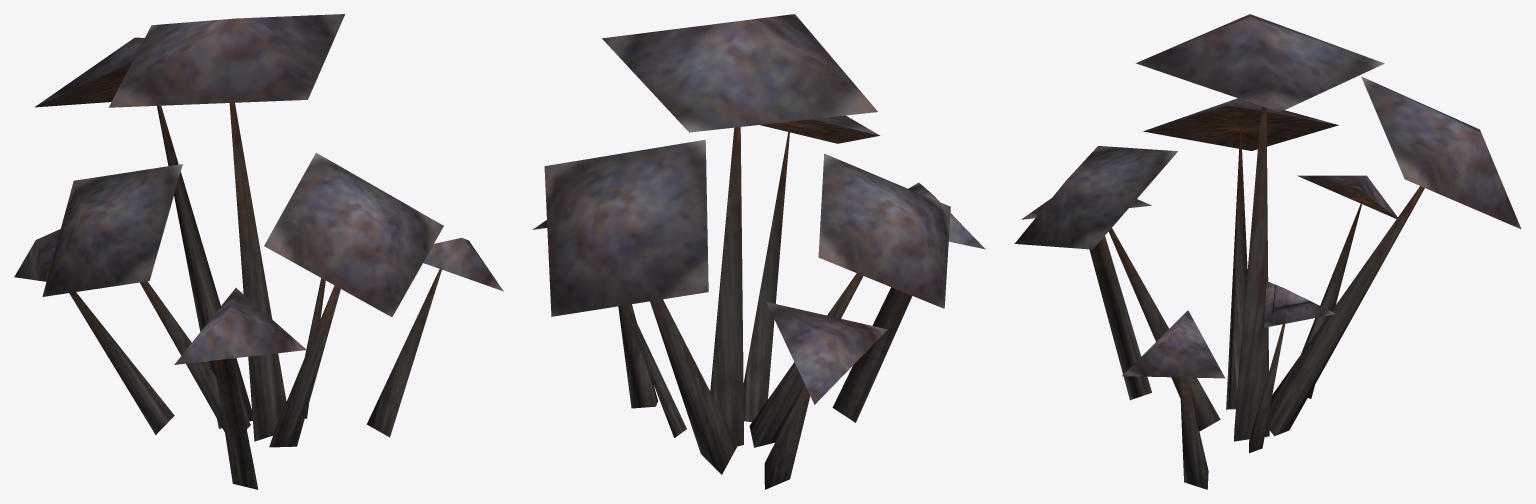
File: Shrooms1_LOD1.fbx
3 renders of one model, left to right at view 1: azimuth 30°, elevation 25°; view 2: azimuth 150°, elevation 25°; view 3: azimuth 270°, elevation 25°, orthographic. The views are drawn at different scales.
Parts seen in each view (by area): view 1: polySurface80; view 2: polySurface80; view 3: polySurface80.
Boxes of the visible parts, left/top/right/bottom form: polySurface80: left=14, top=14, right=503, bottom=489; polySurface80: left=532, top=14, right=985, bottom=489; polySurface80: left=1014, top=14, right=1520, bottom=489.
Size of the model in its own units: 0.4078 by 0.4018 by 0.45.
